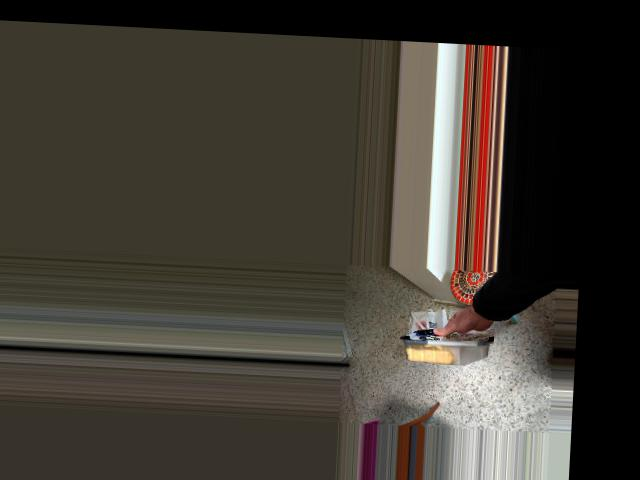cheese: (400, 276, 502, 374)
